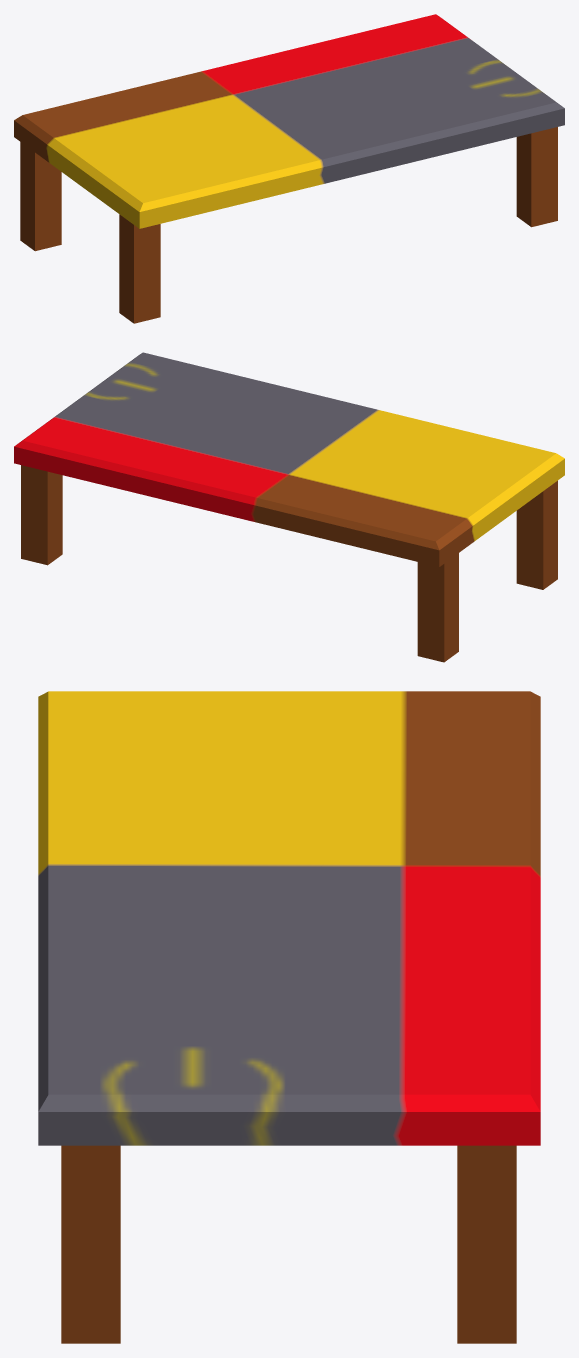
File: SM_Table 1.fbx
The picture shows the model from 3 angles, top to bottom: view 1: azimuth 30°, elevation 25°; view 2: azimuth 150°, elevation 25°; view 3: azimuth 270°, elevation 25°; orthographic projection. The views are drawn at different scales.
Visible parts, largest first — view 1: Box002; view 2: Box002; view 3: Box002.
Part boxes in pixels (x1=…): Box002: x1=14, y1=14, x2=564, y2=323; Box002: x1=14, y1=352, x2=564, y2=662; Box002: x1=38, y1=691, x2=540, y2=1343.
Size of the model in its own units: 363 by 99.41 by 186.
